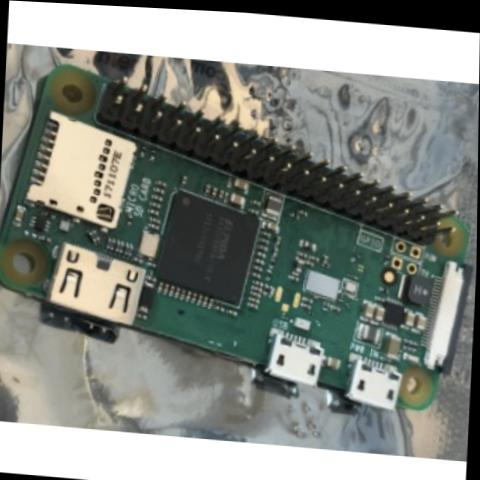Raspberry-Pi-Zero-WH: (0, 58, 479, 413)
